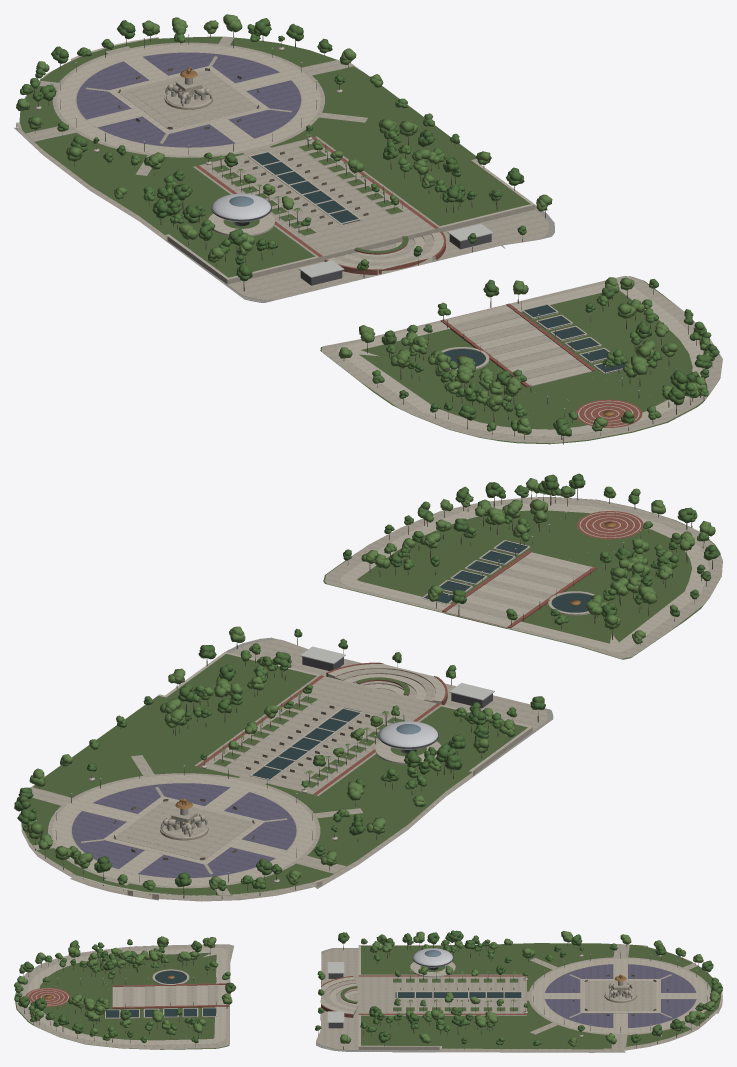
The picture shows the model from 3 angles, top to bottom: view 1: azimuth 30°, elevation 25°; view 2: azimuth 150°, elevation 25°; view 3: azimuth 270°, elevation 25°; orthographic projection. The views are drawn at different scales.
Parts seen in each view (by area): view 1: JINHU_MAT_Lawn, JINHU_MAT_PlazaGranite, JINHU_MAT_PlazaLight, JINHU_MAT_LeafB, JINHU_MAT_LeafC, JINHU_MAT_PurpleStone, JINHU_MAT_LeafA, JINHU_MAT_RedGranite, JINHU_MAT_Water, JINHU_MAT_Bark, JINHU_MAT_MetalDark, JINHU_ELEPHANT_stone (+3 smaller); view 2: JINHU_MAT_Lawn, JINHU_MAT_PlazaGranite, JINHU_MAT_PlazaLight, JINHU_MAT_LeafB, JINHU_MAT_LeafC, JINHU_MAT_PurpleStone, JINHU_MAT_LeafA, JINHU_MAT_Water, JINHU_MAT_RedGranite, JINHU_MAT_Bark, JINHU_MAT_MetalDark, JINHU_ELEPHANT_stone (+3 smaller); view 3: JINHU_MAT_Lawn, JINHU_MAT_PlazaGranite, JINHU_MAT_PlazaLight, JINHU_MAT_LeafB, JINHU_MAT_LeafC, JINHU_MAT_PurpleStone, JINHU_MAT_LeafA, JINHU_MAT_RedGranite, JINHU_MAT_Water, JINHU_MAT_Bark, JINHU_MAT_Sidewalk, JINHU_ELEPHANT_stone (+3 smaller).
Boxes of the visible parts, x1,y1,x2,y2 form: JINHU_MAT_Lawn: [18, 36, 721, 444]; JINHU_MAT_PlazaGranite: [16, 36, 722, 443]; JINHU_MAT_PlazaLight: [16, 37, 709, 436]; JINHU_MAT_LeafB: [16, 14, 714, 434]; JINHU_MAT_LeafC: [32, 18, 719, 430]; JINHU_MAT_PurpleStone: [76, 52, 301, 147]; JINHU_MAT_LeafA: [20, 24, 711, 436]; JINHU_MAT_RedGranite: [195, 137, 642, 427]; JINHU_MAT_Water: [251, 152, 624, 373]; JINHU_MAT_Bark: [21, 31, 712, 444]; JINHU_MAT_MetalDark: [60, 36, 639, 416]; JINHU_ELEPHANT_stone: [164, 78, 212, 109]; JINHU_MAT_Lawn: [21, 497, 722, 896]; JINHU_MAT_PlazaGranite: [21, 497, 722, 900]; JINHU_MAT_PlazaLight: [31, 503, 708, 896]; JINHU_MAT_LeafB: [27, 478, 715, 889]; JINHU_MAT_LeafC: [14, 473, 720, 890]; JINHU_MAT_PurpleStone: [72, 783, 296, 877]; JINHU_MAT_LeafA: [23, 483, 712, 890]; JINHU_MAT_Water: [252, 540, 592, 779]; JINHU_MAT_RedGranite: [197, 511, 643, 795]; JINHU_MAT_Bark: [26, 488, 712, 898]; JINHU_MAT_MetalDark: [56, 513, 640, 882]; JINHU_ELEPHANT_stone: [160, 808, 208, 840]; JINHU_MAT_Lawn: [15, 943, 720, 1049]; JINHU_MAT_PlazaGranite: [16, 944, 722, 1052]; JINHU_MAT_PlazaLight: [27, 944, 722, 1049]; JINHU_MAT_LeafB: [17, 931, 720, 1046]; JINHU_MAT_LeafC: [18, 930, 722, 1044]; JINHU_MAT_PurpleStone: [545, 964, 695, 1027]; JINHU_MAT_LeafA: [14, 935, 718, 1045]; JINHU_MAT_RedGranite: [26, 975, 526, 1017]; JINHU_MAT_Water: [104, 970, 521, 1017]; JINHU_MAT_Bark: [18, 941, 714, 1049]; JINHU_MAT_Sidewalk: [316, 948, 721, 1052]; JINHU_ELEPHANT_stone: [604, 981, 636, 1002].
Bounding box in the file's own units: 155 × 17.22 × 438.
17 materials, 11 textured.
